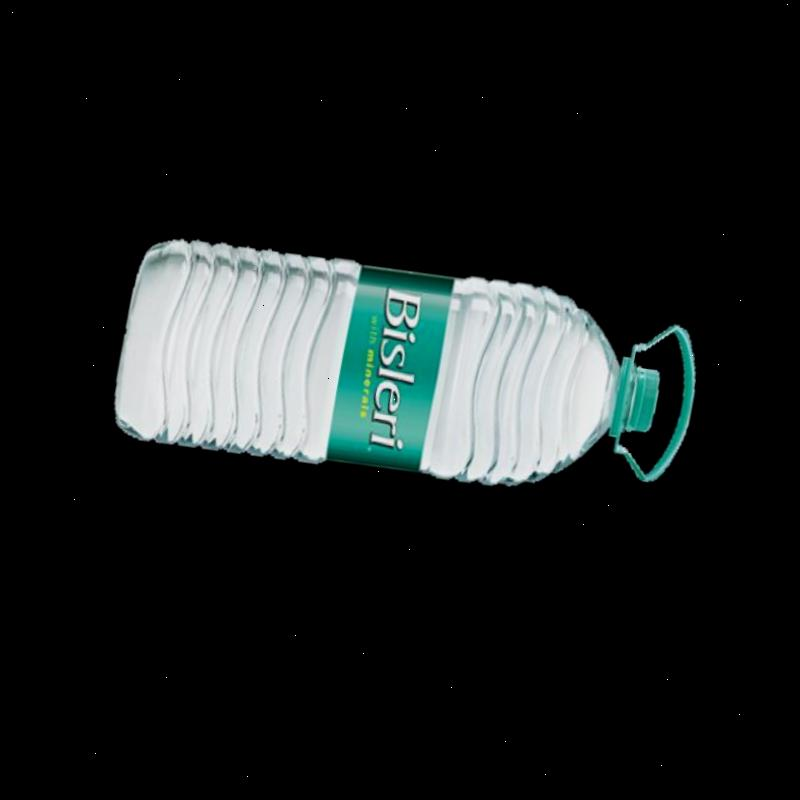botella: (97, 206, 675, 553)
